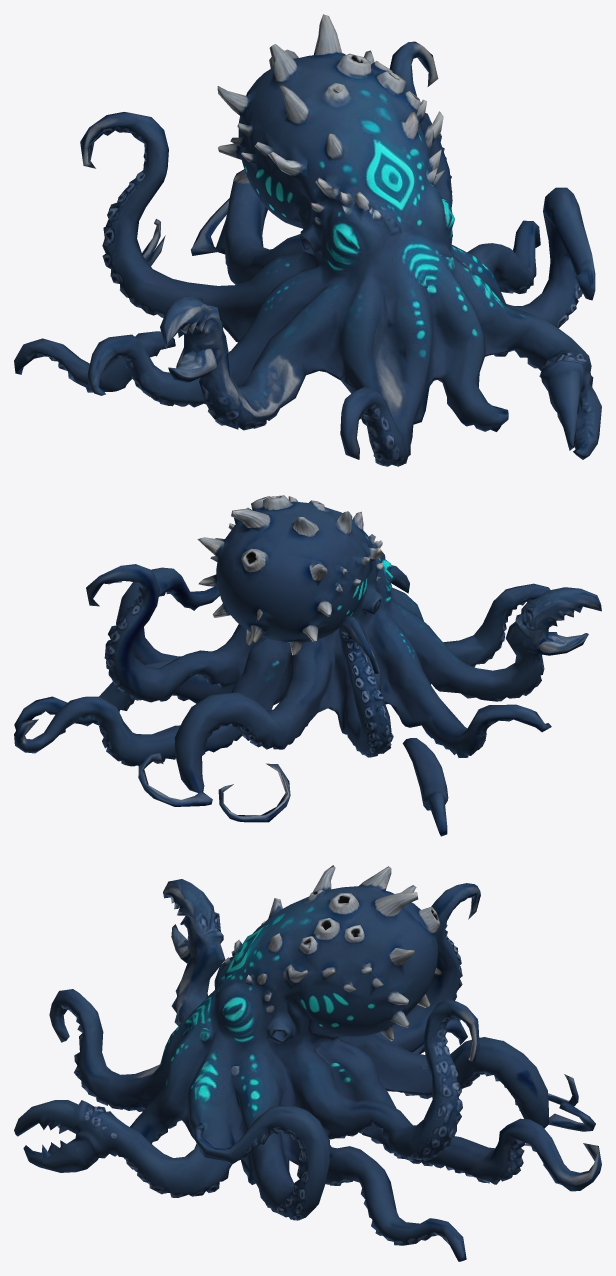
File: kraken.glb
3 views of the same model, one above another, from view 1: azimuth 30°, elevation 25°; view 2: azimuth 150°, elevation 25°; view 3: azimuth 270°, elevation 25° (orthographic). The views are drawn at different scales.
Parts seen in each view (by area): view 1: tripo_node_11f75622-368e-471f-9f80-2eb137e99e7e; view 2: tripo_node_11f75622-368e-471f-9f80-2eb137e99e7e; view 3: tripo_node_11f75622-368e-471f-9f80-2eb137e99e7e.
Boxes of the visible parts, x1,y1,x2,y2 form: tripo_node_11f75622-368e-471f-9f80-2eb137e99e7e: (14,14,601,466); tripo_node_11f75622-368e-471f-9f80-2eb137e99e7e: (14,495,601,836); tripo_node_11f75622-368e-471f-9f80-2eb137e99e7e: (14,865,601,1261).
Bounding box in the file's own units: 0.9384 × 0.5086 × 1.
Materials: 1 (1 with a texture image).
